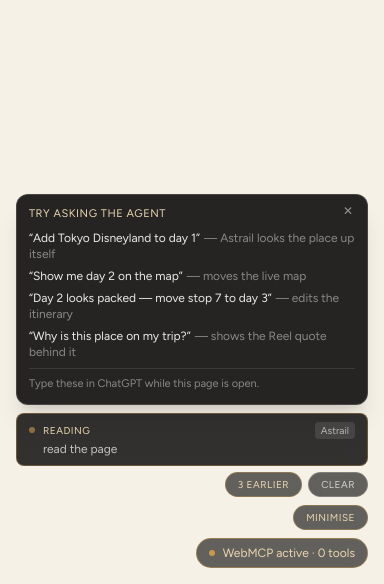
Scenario: WebMcpDock — the dock never swallows an invisible click › still holds with the tool list and the read-back both open
Click the button with aria-label "Show earlier agent activity": (263,484) [225, 472, 302, 497]
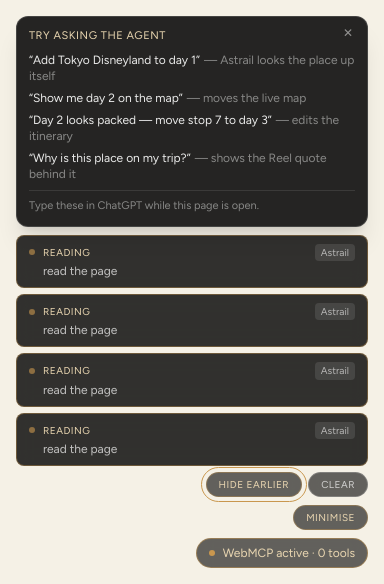
Click the button "WebMCP active · 0 tools": (282,553) [196, 538, 368, 568]
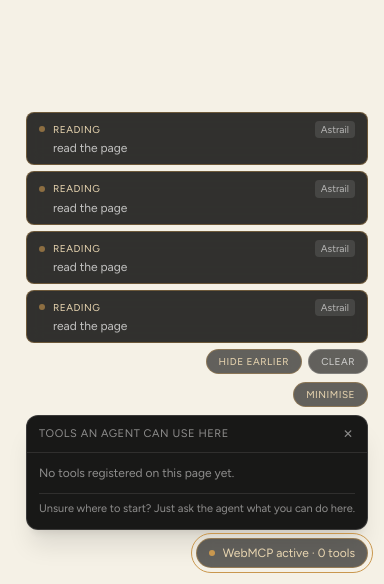
Check: the text "Tools an agent can use here" is shown, box [39, 427, 229, 442]
